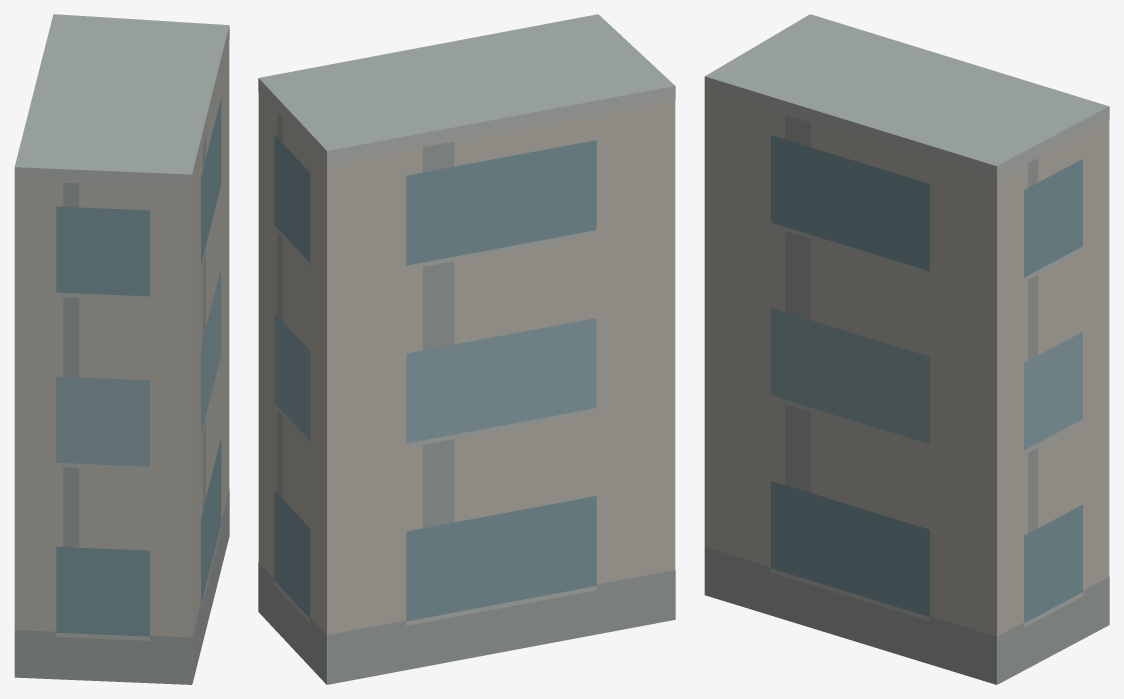
Rendered from survey-upis-32647771.glb.
3 renders of one model, left to right at view 1: azimuth 30°, elevation 25°; view 2: azimuth 150°, elevation 25°; view 3: azimuth 270°, elevation 25°, orthographic. The views are drawn at different scales.
Visible parts, largest first — view 1: survey-upis-32647771.tmp; view 2: survey-upis-32647771.tmp; view 3: survey-upis-32647771.tmp.
Part boxes in pixels (bbox=[...]): survey-upis-32647771.tmp: bbox=[14, 14, 229, 684]; survey-upis-32647771.tmp: bbox=[258, 14, 675, 684]; survey-upis-32647771.tmp: bbox=[704, 14, 1109, 684].
Bounding box in the file's own units: 5.76 × 9.15 × 6.48.
